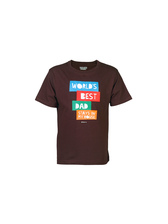clothoes: (32, 57, 135, 167)
